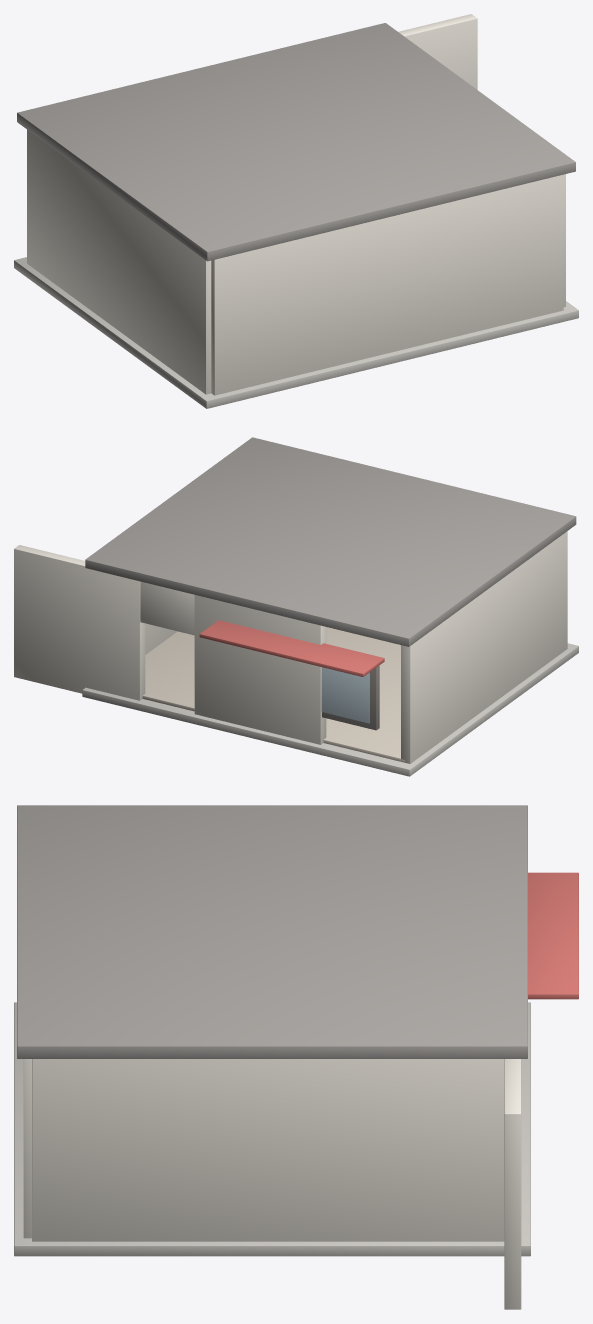
The model's file is th8_laden_offen.glb.
3 views of the same model, one above another, from view 1: azimuth 30°, elevation 25°; view 2: azimuth 150°, elevation 25°; view 3: azimuth 270°, elevation 25° (orthographic). The views are drawn at different scales.
Visible parts, largest first — view 1: Cube.010, Cube.005, Cube.006, Cube, Cube.003; view 2: Cube.010, Cube.006, Cube.003, Cube.002, Cube.001, Cube, Cube.011, Cube.004, Cube.009, Cube.008, Cube.007; view 3: Cube.010, Cube.007, Cube, Cube.011, Cube.003, Cube.005.
Part boxes in pixels (box(x1,y1,x2,y2)): Cube.010: box(17, 23, 575, 261); Cube.005: box(211, 174, 563, 395); Cube.006: box(27, 129, 211, 394); Cube: box(14, 257, 578, 408); Cube.003: box(398, 14, 477, 89); Cube.010: box(85, 437, 576, 646); Cube.006: box(401, 531, 567, 763); Cube.003: box(14, 545, 145, 700); Cube.002: box(194, 595, 326, 744); Cube.001: box(142, 627, 404, 762); Cube: box(82, 643, 578, 776); Cube.011: box(199, 620, 384, 676); Cube.004: box(140, 581, 194, 635); Cube.009: box(321, 667, 369, 723); Cube.008: box(322, 665, 379, 730); Cube.007: box(145, 623, 177, 654); Cube.010: box(17, 805, 527, 1058); Cube.007: box(32, 1059, 504, 1241); Cube: box(14, 1002, 530, 1256); Cube.011: box(528, 872, 578, 999); Cube.003: box(504, 1059, 521, 1309); Cube.005: box(23, 1059, 31, 1238).
Bounding box in the file's own units: 11.7 × 3.84 × 9.4.
